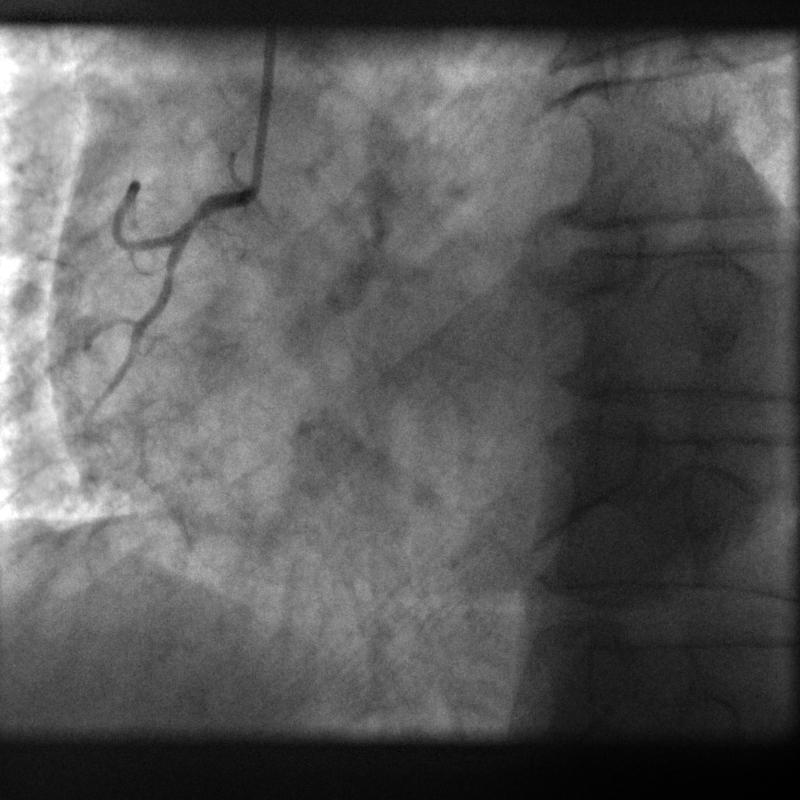Stenosis: (175, 196, 210, 240)
